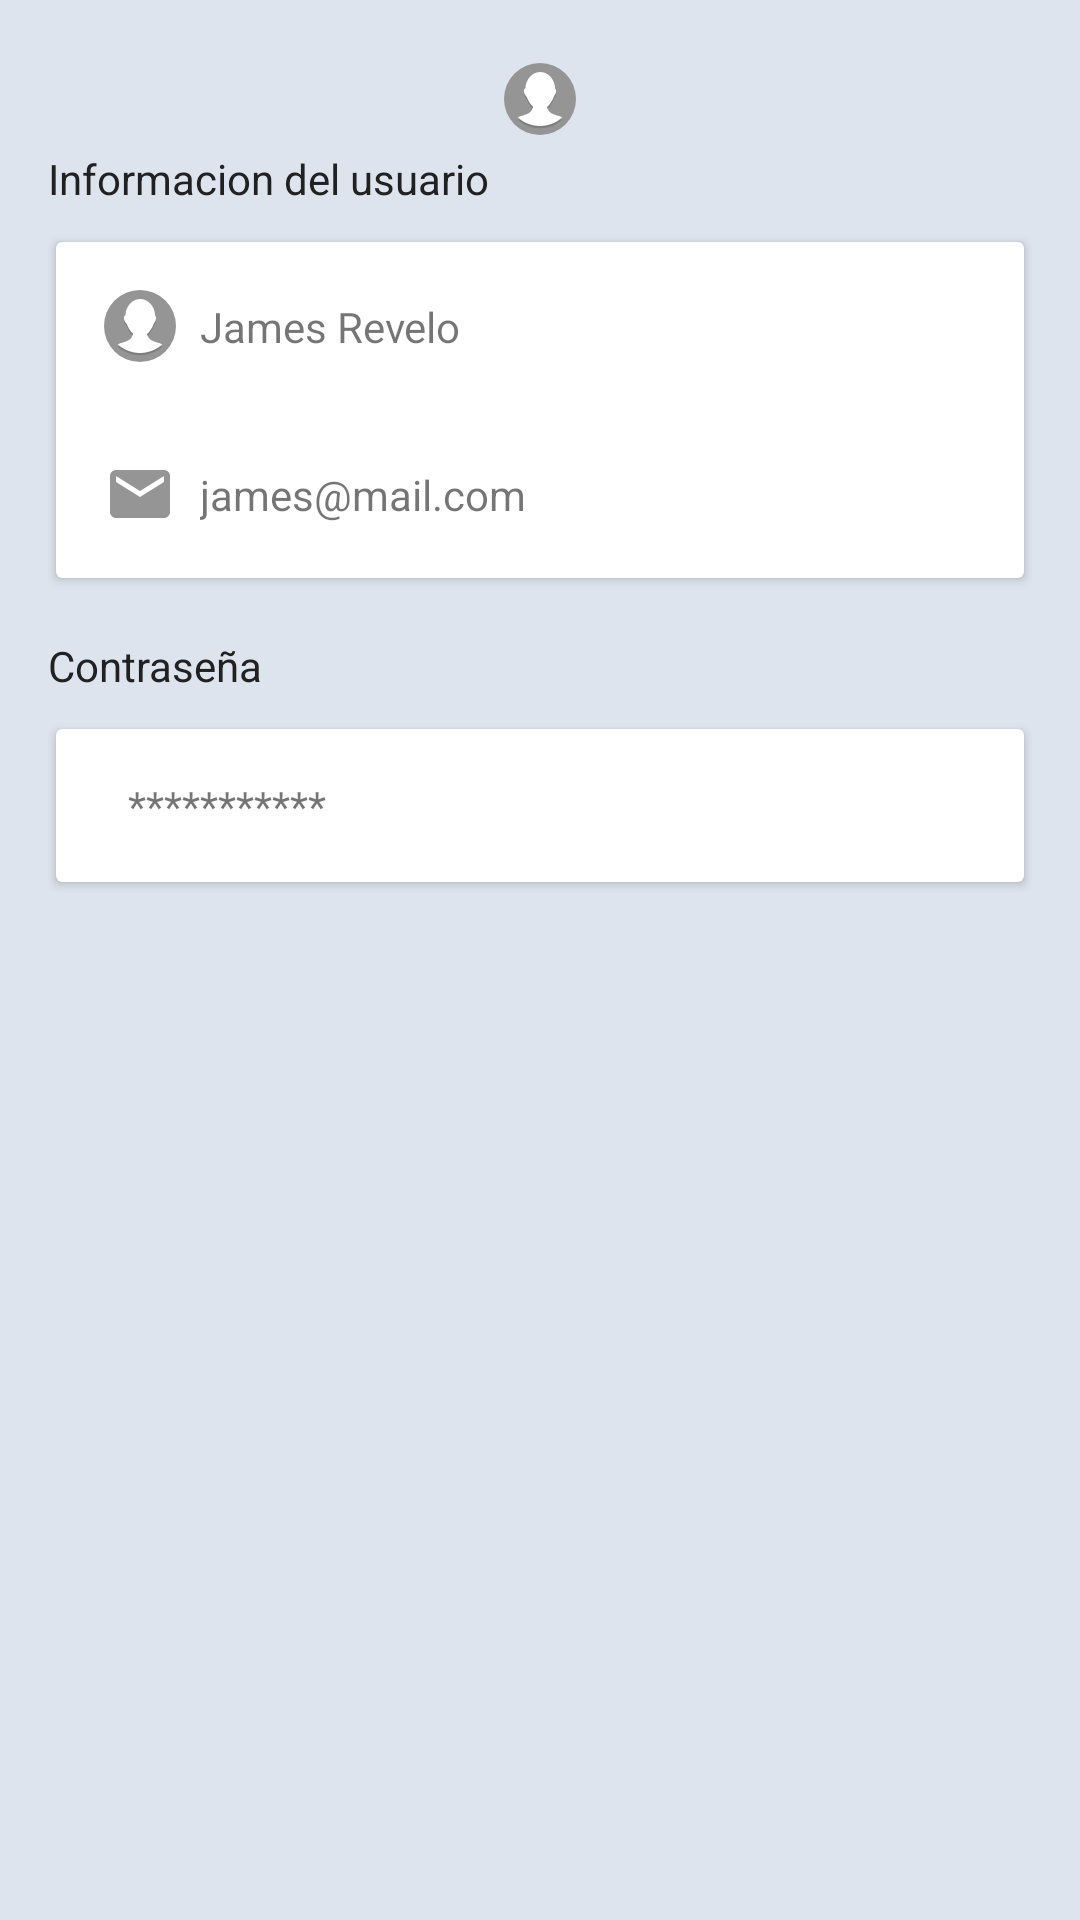

Locate icon controls on the screen. Image size 1080 × 1920, boxes as box=[x1, y1, x2, y2].
email: box=[110, 470, 170, 518]
profile: box=[504, 63, 576, 135], box=[104, 290, 176, 362]
